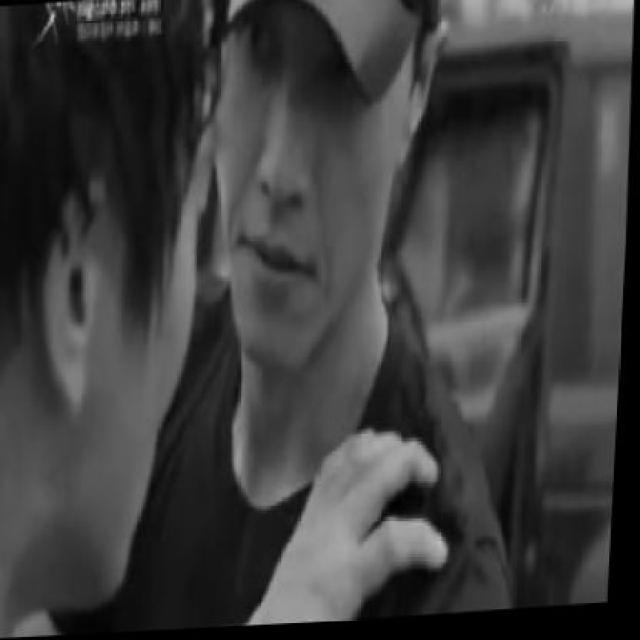hat: (221, 0, 444, 115)
